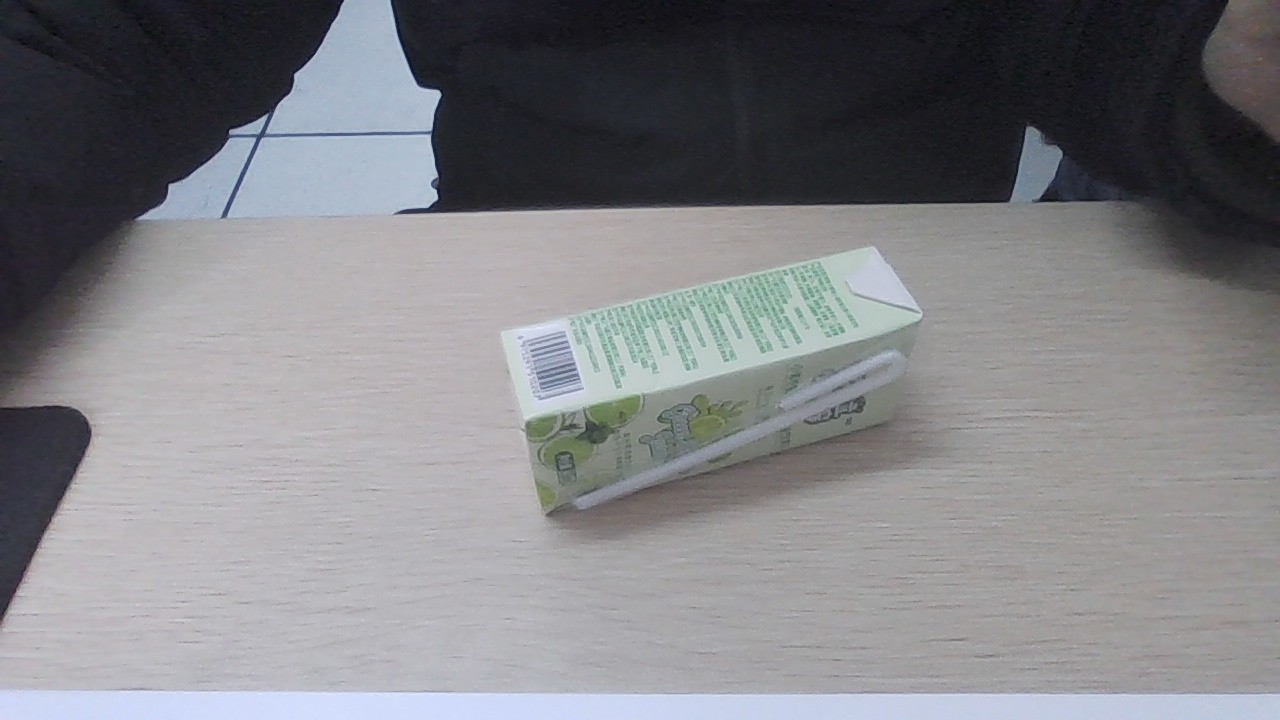CY-drink: (506, 251, 911, 506)
